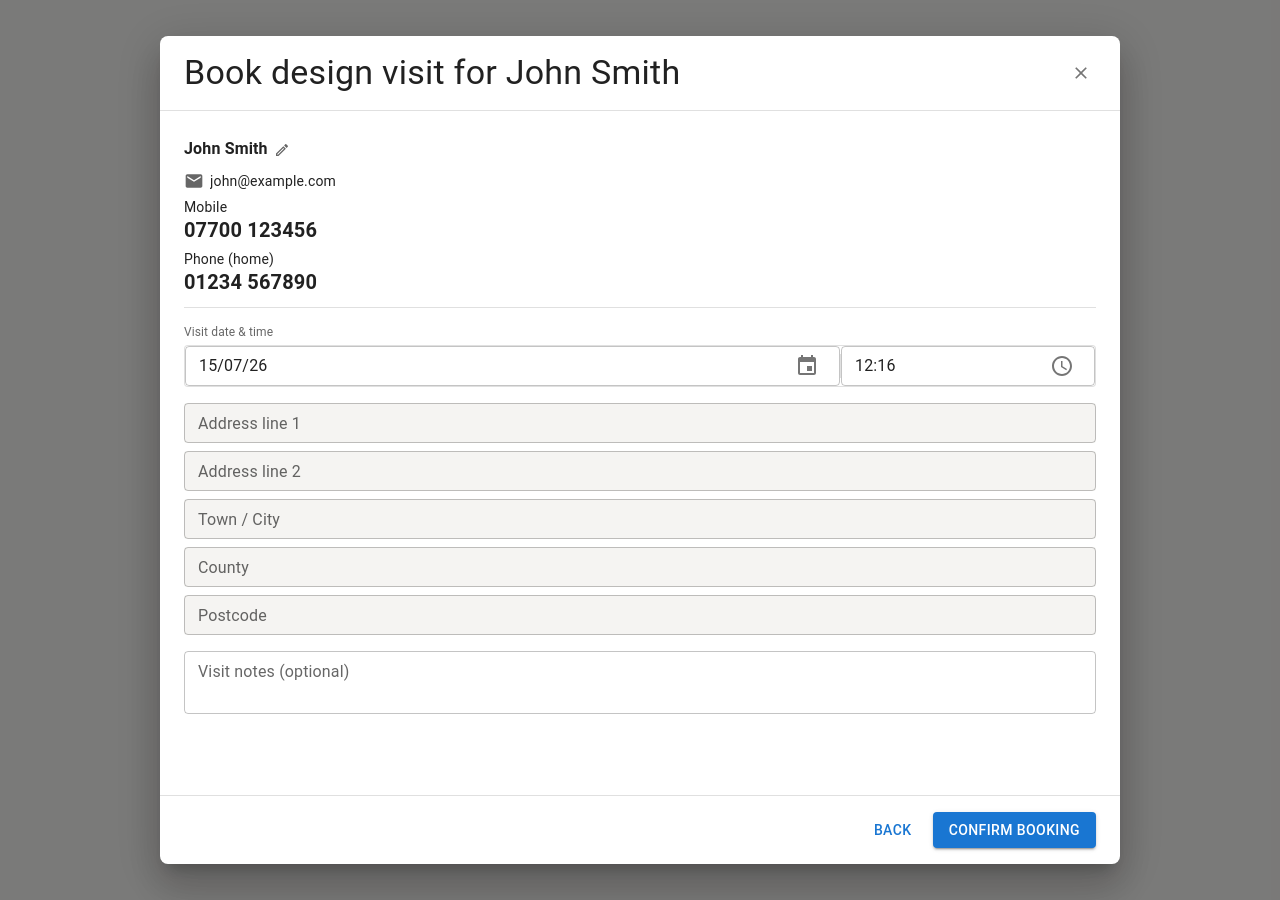
Test: ArrangeVisitModal — discard guard dialog behavior (real hook) › shows the discard dialog when the modal is at the booked step (dirty state)
Expected: the button with test id "av-booked-confirm" is shown, top-left (933, 812), bottom-right (1096, 848)
Click the button named "close". click: (1081,73)
box: top-left (1066, 58), bottom-right (1096, 88)
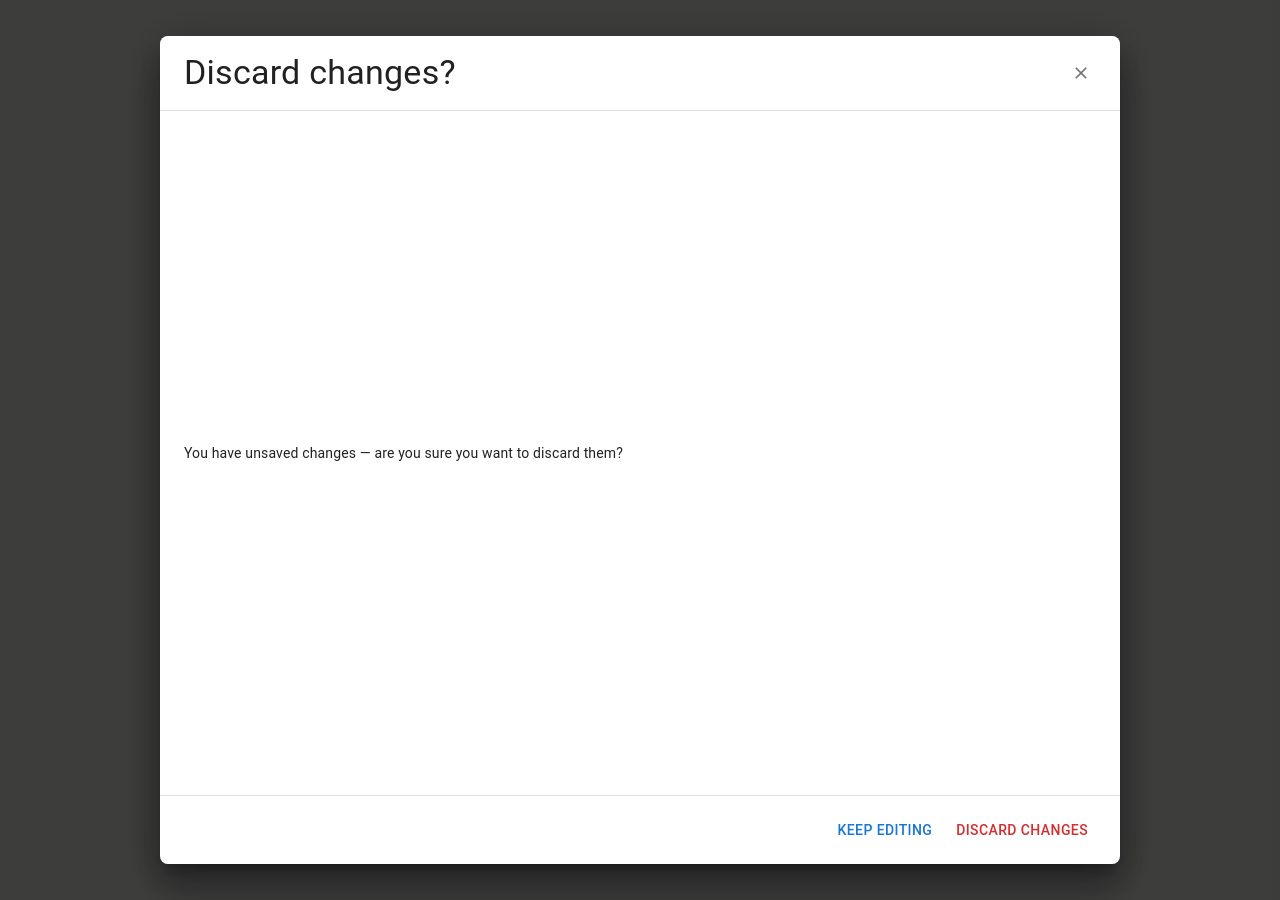
Now the dialog "Discard changes" is shown
